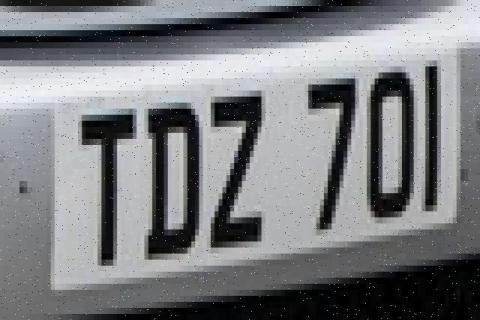LicensePlate: (40, 53, 480, 281)
